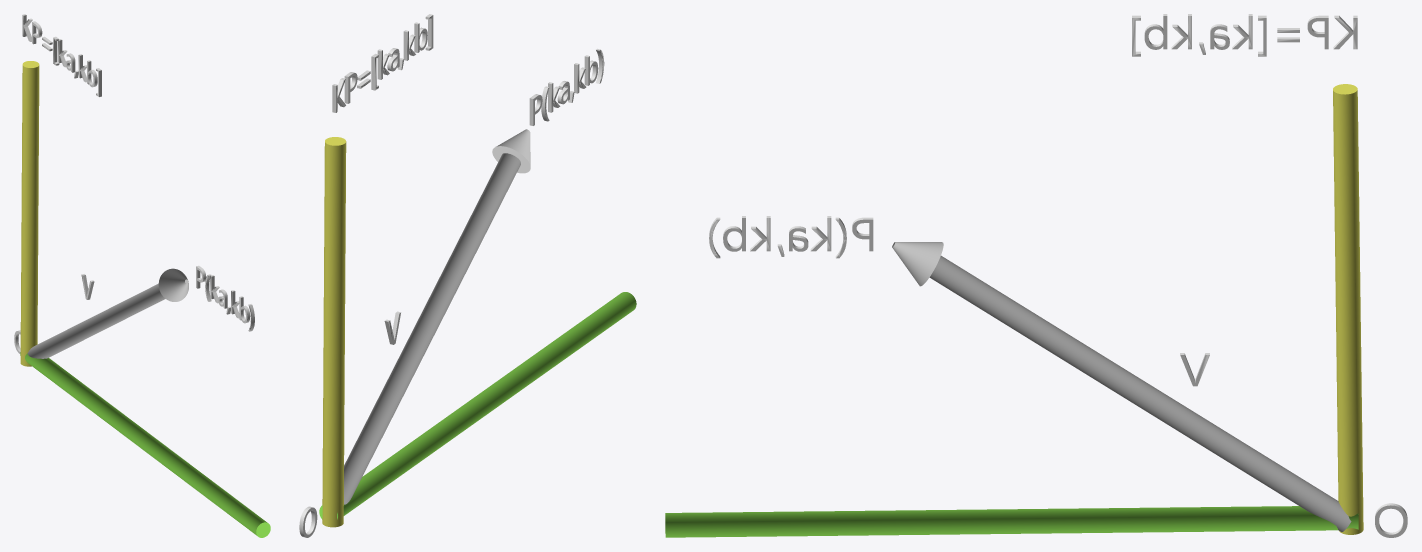
3 renders of one model, left to right at view 1: azimuth 30°, elevation 25°; view 2: azimuth 150°, elevation 25°; view 3: azimuth 270°, elevation 25°, orthographic. The views are drawn at different scales.
Visible parts, largest first — view 1: Cylinder.010, Cylinder.011, Cylinder.009, Cone.008; view 2: Cylinder.010, Cylinder.009, Cylinder.011, Cone.008; view 3: Cylinder.011, Cylinder.009, Cylinder.010, Cone.008.
Boxes of the visible parts, bbox=[...] form: Cylinder.010: bbox=[20, 61, 39, 366]; Cylinder.011: bbox=[20, 352, 270, 537]; Cylinder.009: bbox=[27, 283, 165, 358]; Cone.008: bbox=[158, 268, 188, 301]; Cylinder.010: bbox=[322, 137, 346, 527]; Cylinder.009: bbox=[344, 153, 520, 504]; Cylinder.011: bbox=[319, 292, 636, 519]; Cone.008: bbox=[492, 129, 530, 173]; Cylinder.011: bbox=[665, 506, 1358, 537]; Cylinder.009: bbox=[929, 255, 1351, 531]; Cylinder.010: bbox=[1333, 84, 1363, 534]; Cone.008: bbox=[892, 242, 943, 286].
Bounding box in the file's own units: 0.02 × 0.2308 × 0.2994.
